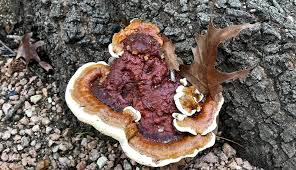Ganoderma - Fruit Body: (63, 16, 224, 167)
